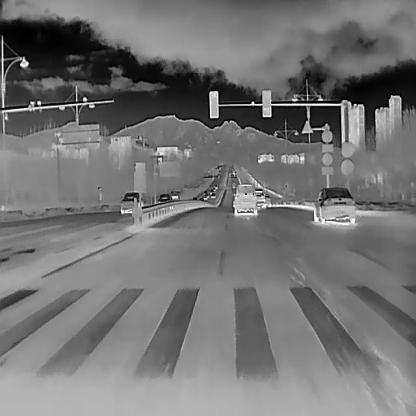car: (311, 186, 355, 224), (233, 183, 257, 215), (119, 191, 142, 214), (254, 187, 265, 209), (156, 192, 172, 206), (263, 192, 271, 207), (209, 193, 216, 198), (212, 183, 218, 188), (202, 193, 206, 199), (211, 185, 214, 190), (209, 188, 212, 192)
